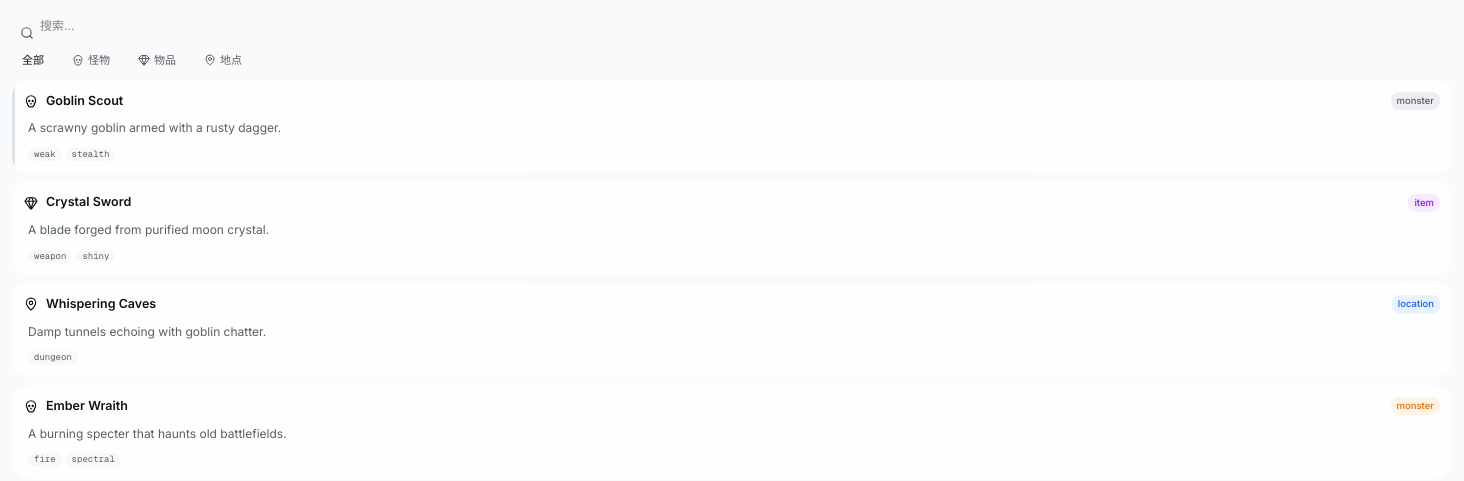
FilterContainer component › filters items by search query
Type "crystal" into the search field with placeholder "搜索…" at coordinates (732, 26), box [12,12,1452,40]
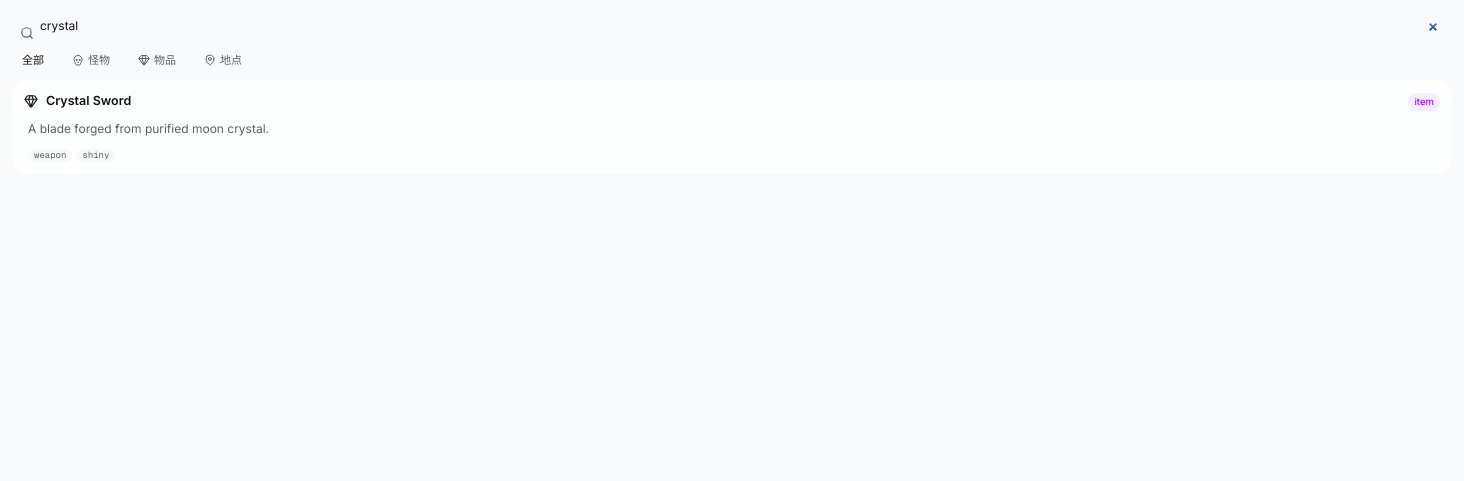
Now the text "Goblin Scout" is gone
Now the text "Whispering Caves" is gone
Now the text "Ember Wraith" is gone
